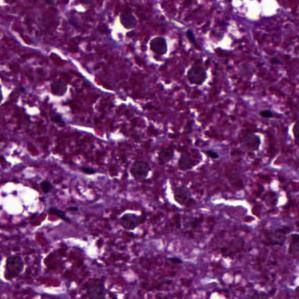inflammation: (144, 33, 179, 65), (110, 8, 144, 39), (116, 207, 146, 239), (182, 56, 211, 89), (39, 77, 72, 104), (0, 251, 25, 283)
